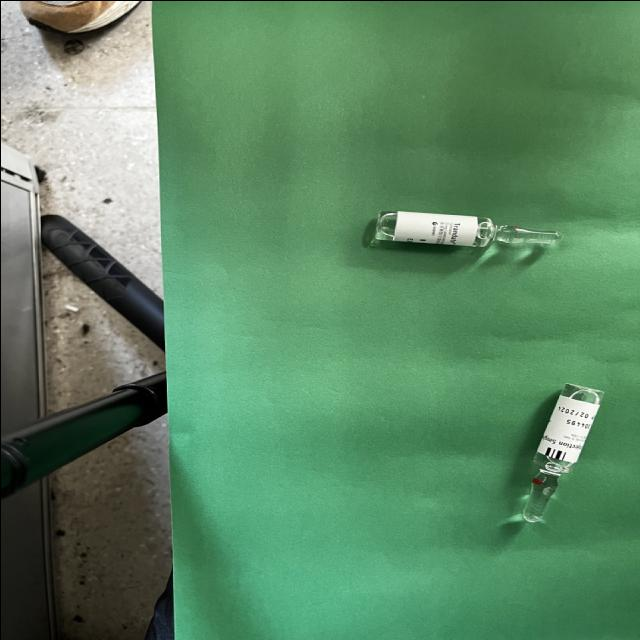Ampoules: (521, 383, 603, 522), (373, 211, 561, 248)
